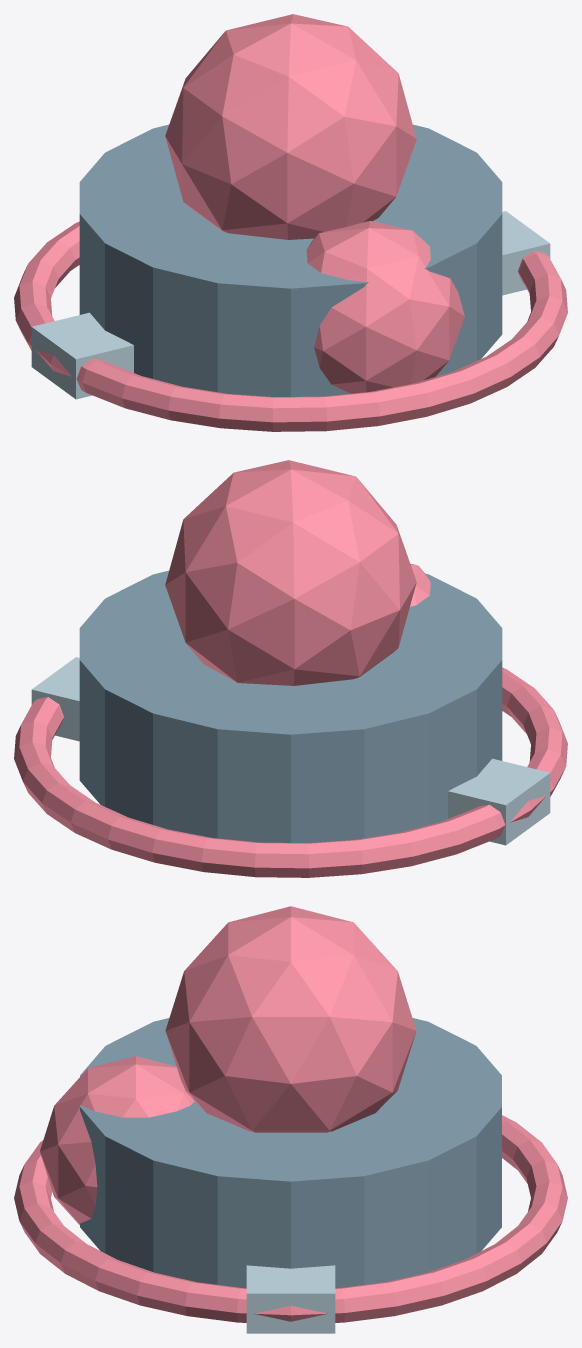
The model's file is spectral_interceptor.glb.
The picture shows the model from 3 angles, top to bottom: view 1: azimuth 30°, elevation 25°; view 2: azimuth 150°, elevation 25°; view 3: azimuth 270°, elevation 25°; orthographic projection.
Visible parts, largest first — view 1: hover_carapace_0, hover_ai_eye_1, rotor_ring_2, enemy_target_optic_5, rotor_fin_3, rotor_fin_4; view 2: hover_carapace_0, hover_ai_eye_1, rotor_ring_2, rotor_fin_3, rotor_fin_4, enemy_target_optic_5; view 3: hover_carapace_0, hover_ai_eye_1, rotor_ring_2, enemy_target_optic_5, rotor_fin_4.
Part boxes in pixels (<box>): hover_carapace_0: <box>79,124,502,397</box>; hover_ai_eye_1: <box>165,14,416,239</box>; rotor_ring_2: <box>14,221,567,431</box>; enemy_target_optic_5: <box>306,221,464,393</box>; rotor_fin_3: <box>31,312,133,399</box>; rotor_fin_4: <box>502,211,550,295</box>; hover_carapace_0: <box>79,570,502,843</box>; hover_ai_eye_1: <box>165,460,416,685</box>; rotor_ring_2: <box>14,667,567,877</box>; rotor_fin_3: <box>448,758,550,845</box>; rotor_fin_4: <box>31,657,79,741</box>; enemy_target_optic_5: <box>410,563,430,606</box>; hover_carapace_0: <box>80,1018,501,1288</box>; hover_ai_eye_1: <box>165,906,416,1132</box>; rotor_ring_2: <box>14,1115,567,1322</box>; enemy_target_optic_5: <box>40,1056,194,1224</box>; rotor_fin_4: <box>246,1265,335,1333</box>.
Size of the model in its own units: 0.75 by 0.48 by 0.75.
